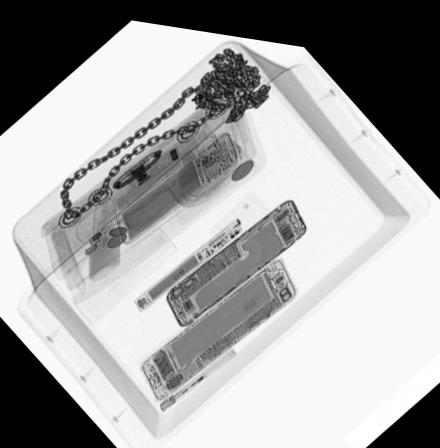Lighter: (158, 341, 238, 407)
